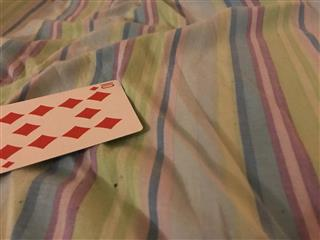TenOfDiamonds: (1, 79, 143, 174)
